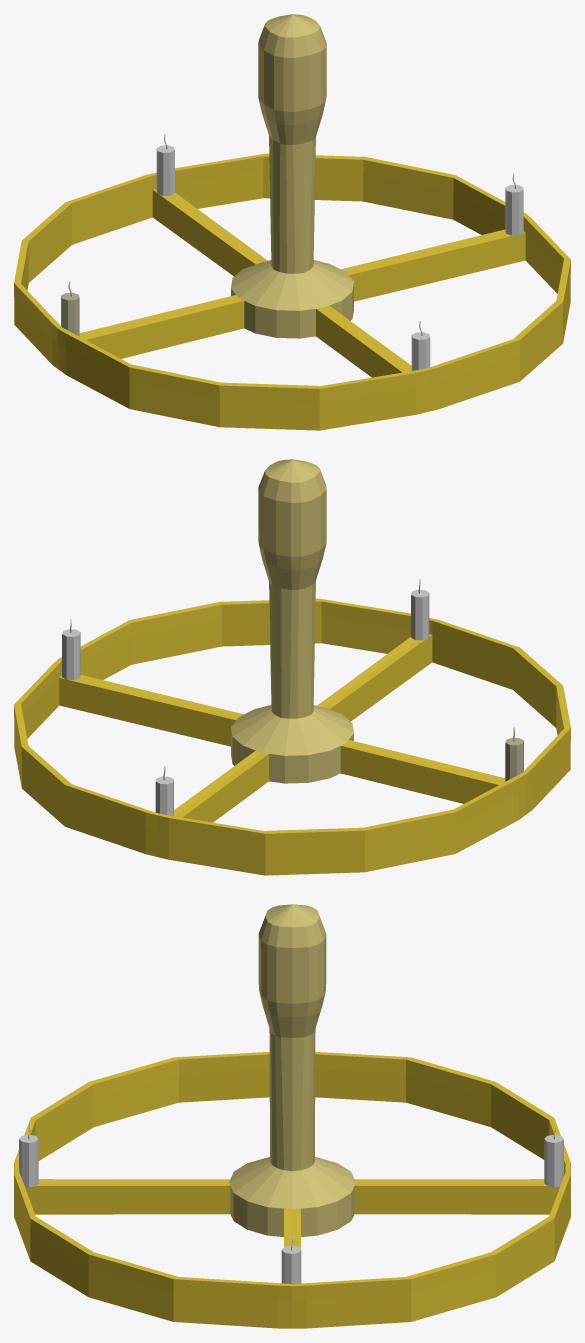
Rendered from shanderia.fbx.
The picture shows the model from 3 angles, top to bottom: view 1: azimuth 30°, elevation 25°; view 2: azimuth 150°, elevation 25°; view 3: azimuth 270°, elevation 25°; orthographic projection. The views are drawn at different scales.
Parts seen in each view (by area): view 1: shandeia, candoru.003, candoru.002, candoru, candoru.001; view 2: shandeia, candoru.003, candoru.001, candoru, candoru.002; view 3: shandeia, candoru.002, candoru.001, candoru.003.
Part boxes in pixels (x1=…): shandeia: x1=14, y1=14, x2=570, y2=430; candoru.003: x1=505, y1=173, x2=523, y2=235; candoru.002: x1=156, y1=134, x2=174, y2=195; candoru: x1=61, y1=281, x2=79, y2=336; candoru.001: x1=411, y1=321, x2=430, y2=370; shandeia: x1=14, y1=459, x2=570, y2=875; candoru.003: x1=62, y1=619, x2=80, y2=679; candoru.001: x1=411, y1=579, x2=429, y2=640; candoru: x1=505, y1=727, x2=523, y2=781; candoru.002: x1=155, y1=766, x2=173, y2=815; shandeia: x1=14, y1=904, x2=570, y2=1328; candoru.002: x1=544, y1=1123, x2=563, y2=1187; candoru.001: x1=19, y1=1123, x2=38, y2=1187; candoru.003: x1=281, y1=1234, x2=301, y2=1283.
Size of the model in its own units: 397 by 241 by 397.
Materials: 3 (2 with a texture image).
